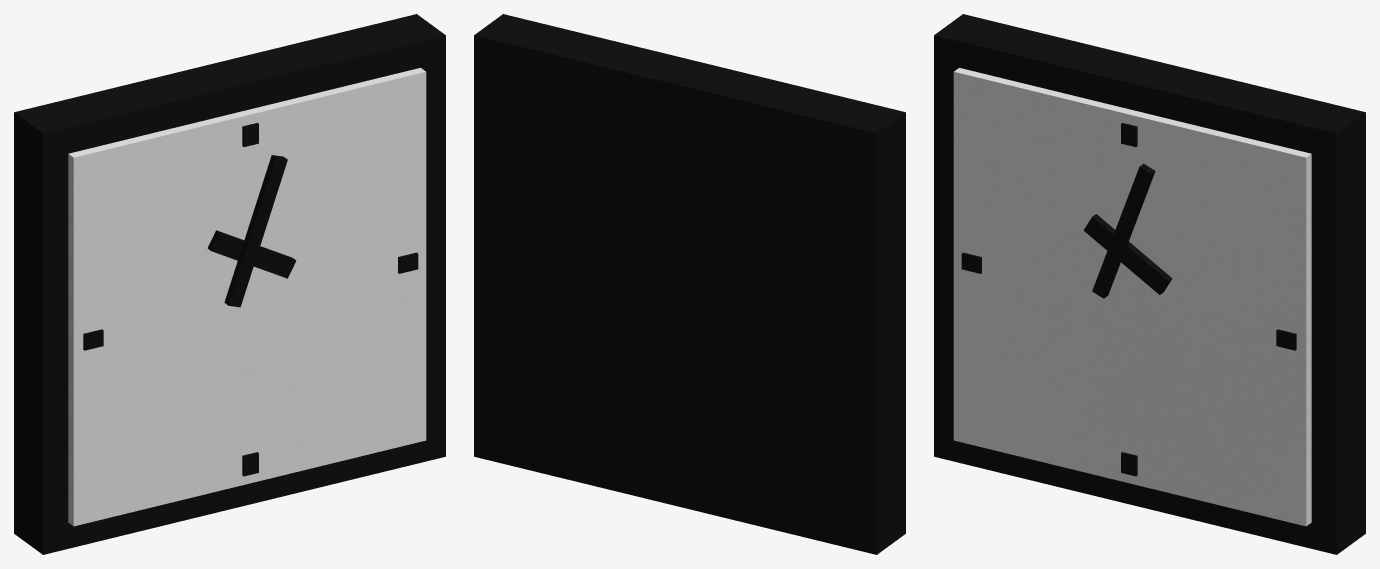
The picture shows the model from 3 angles, left to right: view 1: azimuth 30°, elevation 25°; view 2: azimuth 150°, elevation 25°; view 3: azimuth 330°, elevation 25°; orthographic projection.
Parts seen in each view (by area): view 1: WallClock_Game; view 2: WallClock_Game; view 3: WallClock_Game.
Part boxes in pixels (x1,y1,x2,y2): WallClock_Game: (14,14,445,554); WallClock_Game: (474,14,905,554); WallClock_Game: (934,14,1365,554).
Size of the model in its own units: 0.32 by 0.32 by 0.059.
Materials: 2 (2 with a texture image).
